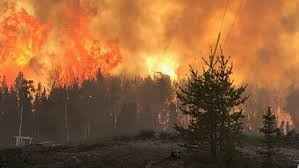fire: (5, 17, 182, 78)
smoke: (234, 7, 299, 105)
